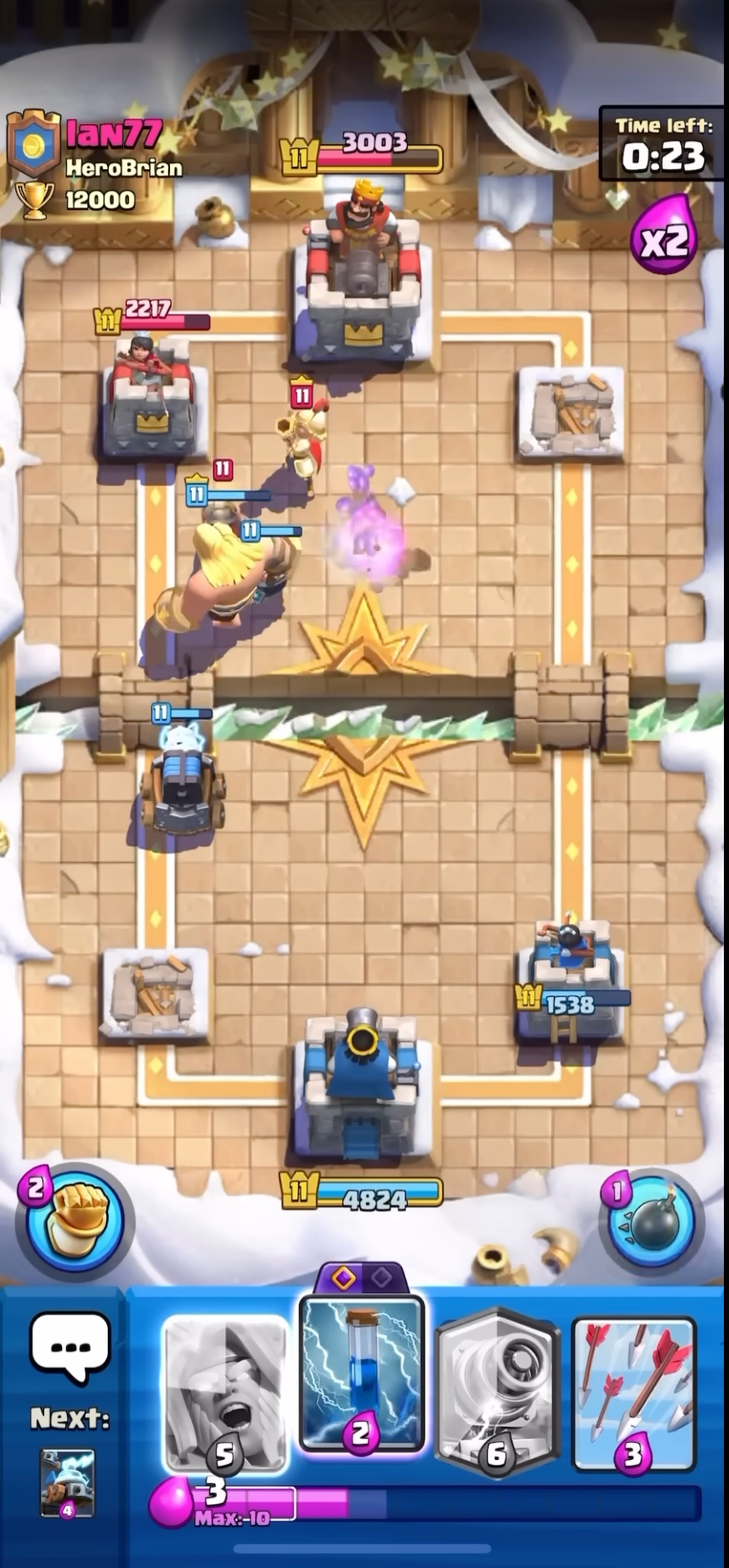hero-musketeer: (270, 372, 340, 505)
miner: (196, 456, 253, 560)
